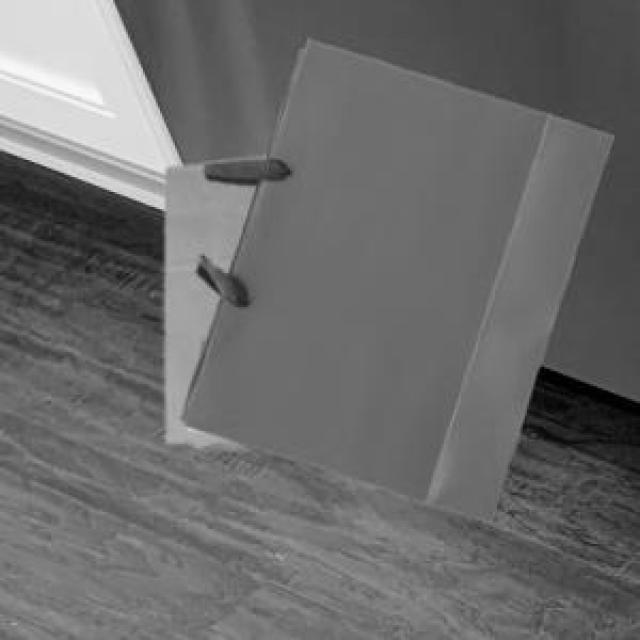paper: (177, 36, 610, 518), (162, 160, 252, 446)
